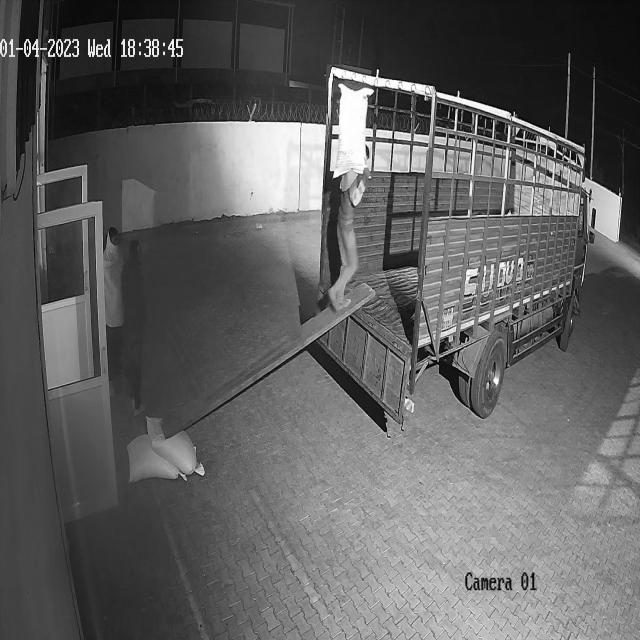sack: (333, 84, 374, 180), (145, 416, 203, 474), (127, 432, 185, 480)
